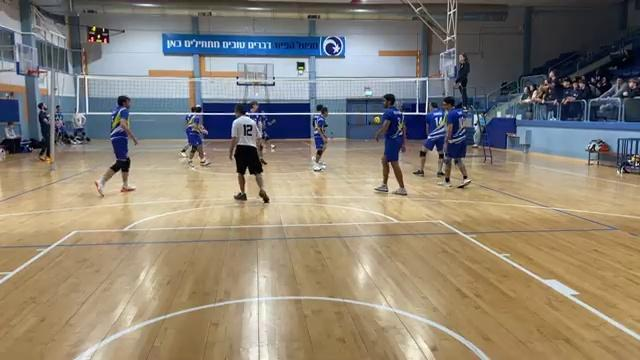ball: (371, 114, 382, 128)
